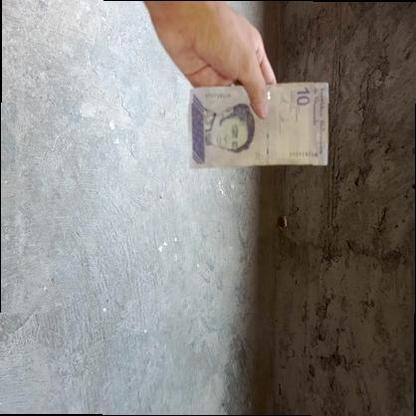ten-front-vef: (188, 83, 329, 168)
